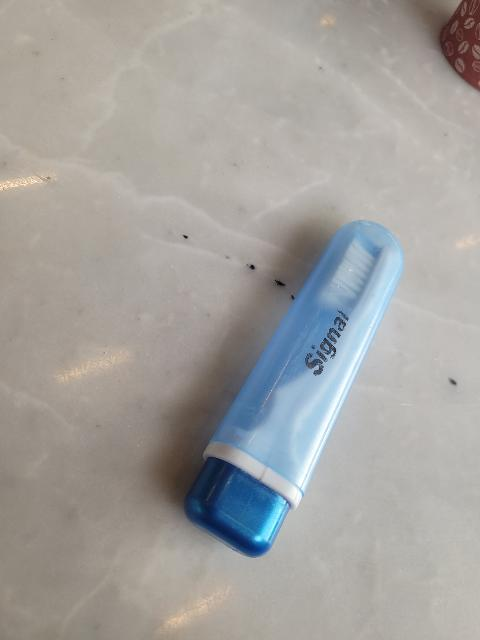Plastik: (180, 214, 415, 564)
